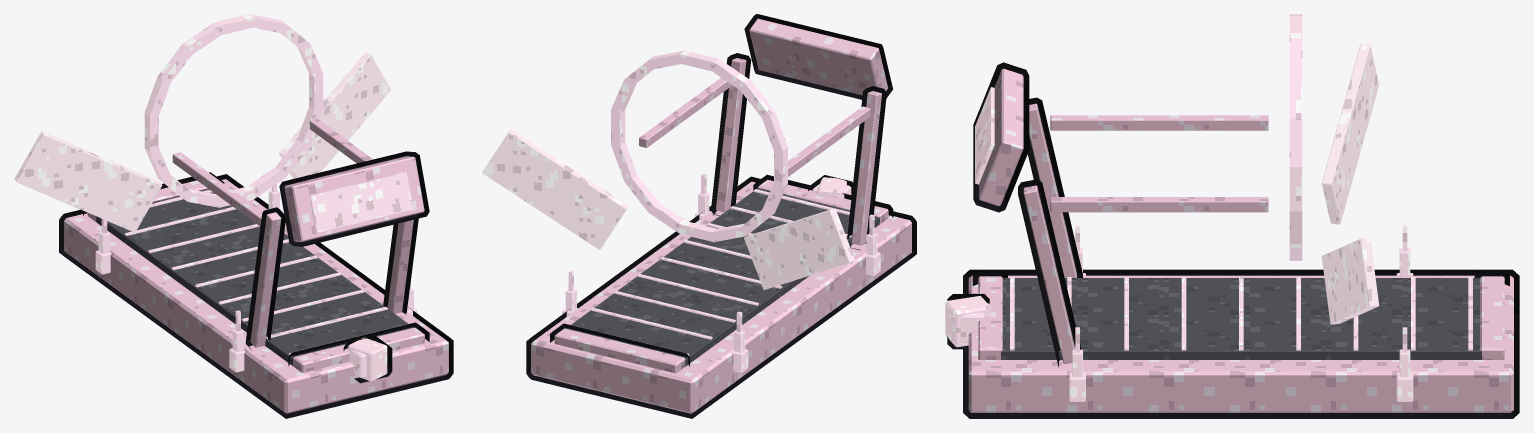
Rendered from treadmill_14.glb.
3 renders of one model, left to right at view 1: azimuth 30°, elevation 25°; view 2: azimuth 150°, elevation 25°; view 3: azimuth 270°, elevation 25°, orthographic. The views are drawn at different scales.
Visible parts, largest first — view 1: model; view 2: model; view 3: model.
Part boxes in pixels (x1,y1,x2,y2): model: (14,14,453,418); model: (482,14,916,418); model: (945,14,1519,418).
Size of the model in its own units: 2.74 by 1.96 by 2.97.
Materials: 5 (4 with a texture image).
